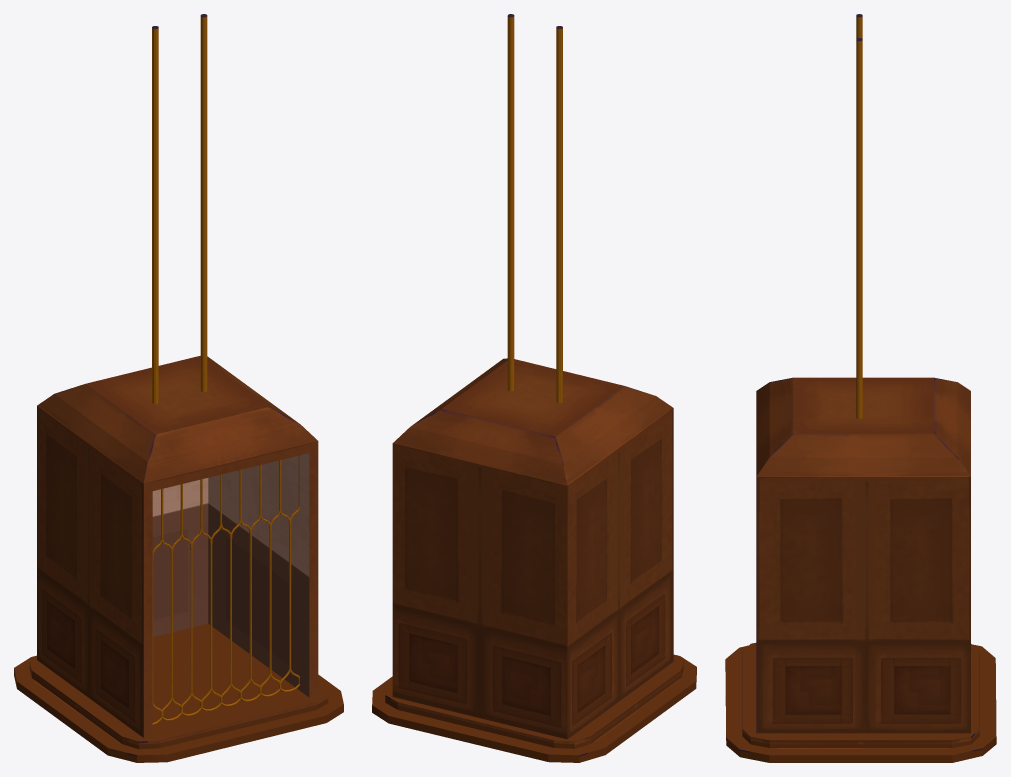
File: Lift_v2.fbx
3 views of the same model, side by side, from view 1: azimuth 30°, elevation 25°; view 2: azimuth 150°, elevation 25°; view 3: azimuth 270°, elevation 25° (orthographic).
Visible parts, largest first — view 1: Lift_v2; view 2: Lift_v2; view 3: Lift_v2.
Part boxes in pixels (left/top/right/bottom): Lift_v2: left=14, top=14, right=343, bottom=762; Lift_v2: left=372, top=14, right=696, bottom=762; Lift_v2: left=725, top=14, right=996, bottom=762.
Bounding box in the file's own units: 240 × 662 × 240.
Materials: 1 (1 with a texture image).
